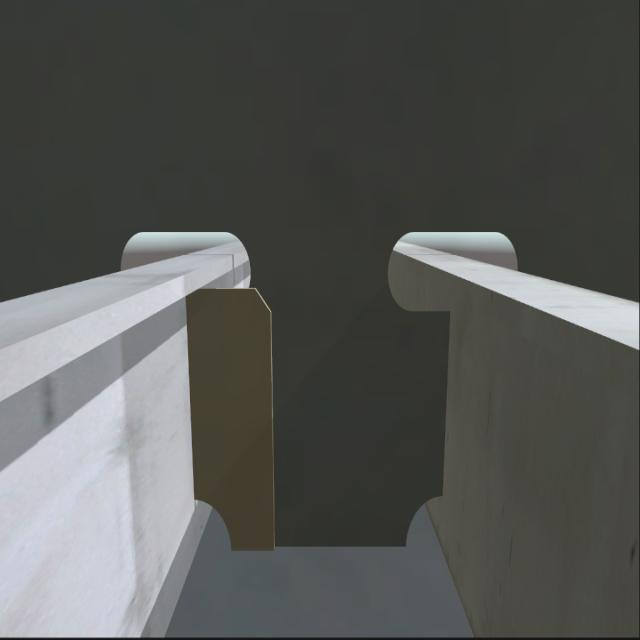fillet_hole: (191, 500, 233, 550), (408, 492, 443, 546)
fillet_yong_jeop_jang: (225, 535, 410, 559)
longi_yong_jeop_jang: (179, 278, 200, 501), (435, 305, 454, 496)
plate_CP03: (184, 282, 275, 551)
